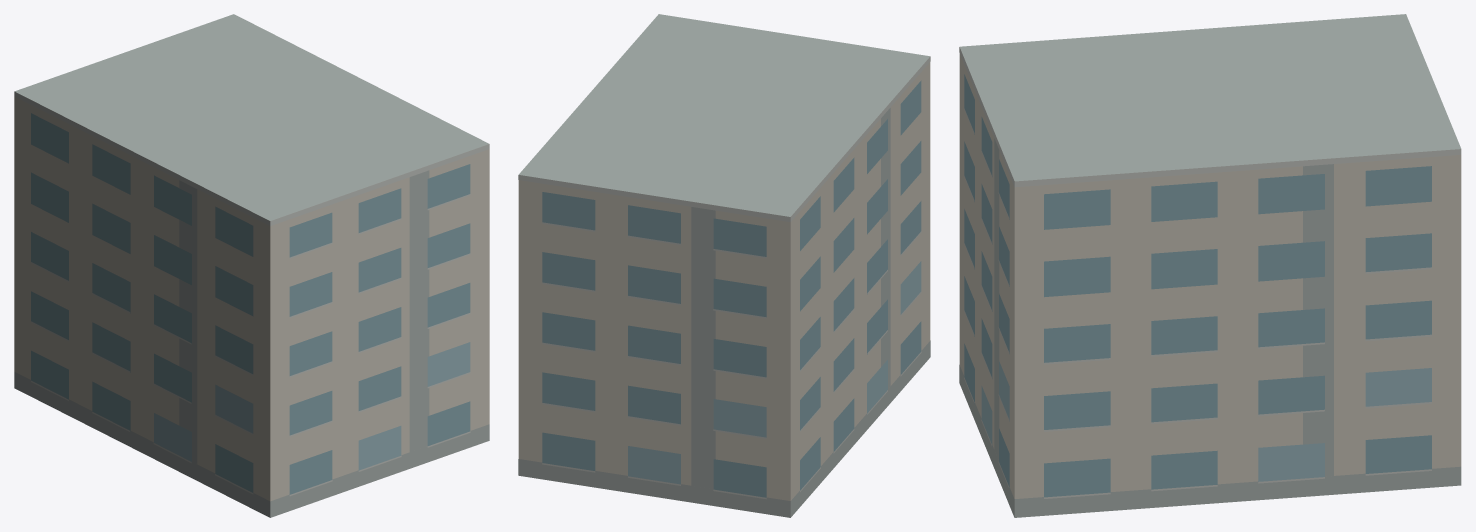
File: survey-upis-32760723.glb
3 views of the same model, side by side, from view 1: azimuth 30°, elevation 25°; view 2: azimuth 150°, elevation 25°; view 3: azimuth 270°, elevation 25° (orthographic). The views are drawn at different scales.
Parts seen in each view (by area): view 1: survey-upis-32760723.tmp; view 2: survey-upis-32760723.tmp; view 3: survey-upis-32760723.tmp.
Boxes of the visible parts, left/top/right/bottom form: survey-upis-32760723.tmp: left=14, top=14, right=489, bottom=517; survey-upis-32760723.tmp: left=518, top=14, right=930, bottom=517; survey-upis-32760723.tmp: left=959, top=14, right=1461, bottom=517.
Size of the model in its own units: 15.11 by 14.15 by 19.14.
